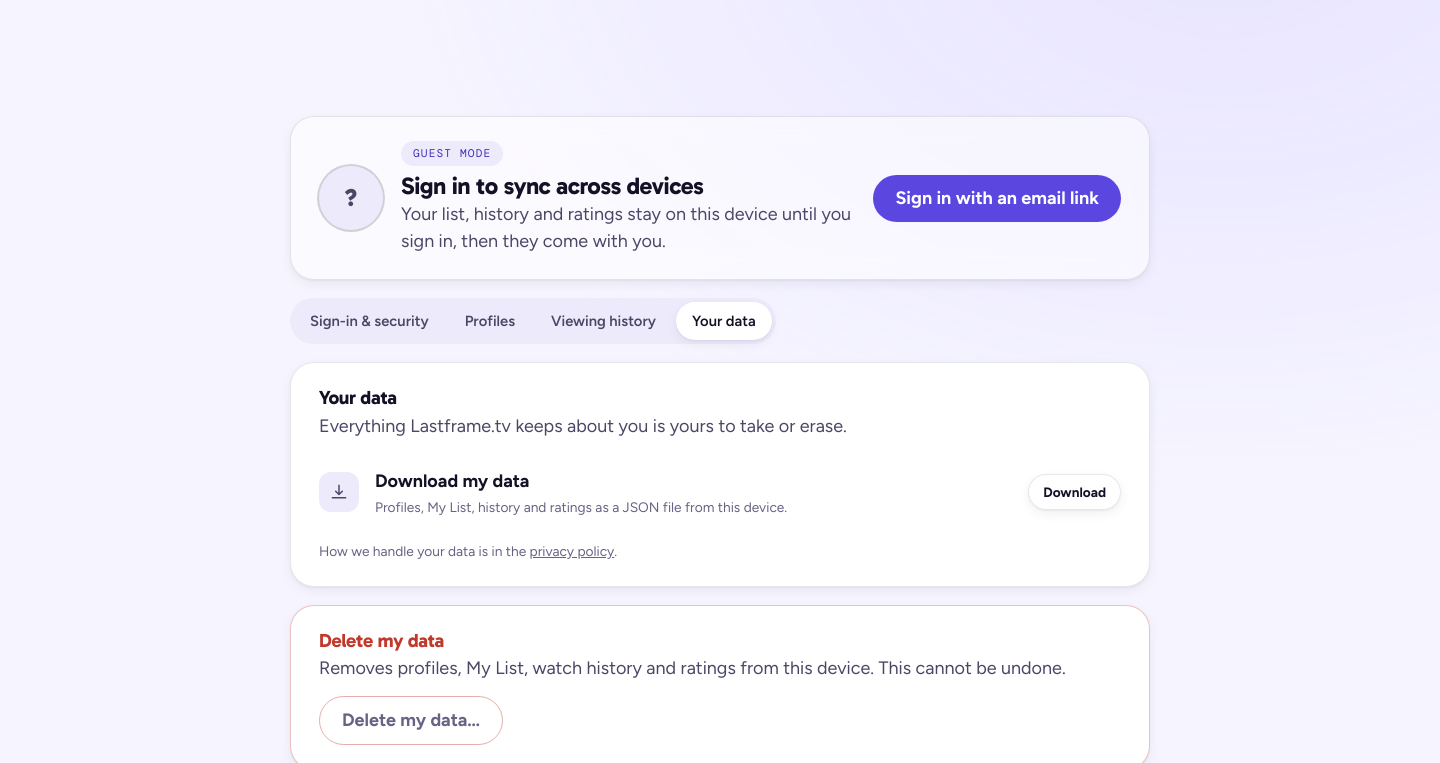
Test case: AccountPage: download my data › downloads this device’s data as a guest
What coordinates should you click on to do the following:
click the button "Download"
I would click on:
 (1075, 492)
Its box is [1028, 474, 1121, 510].
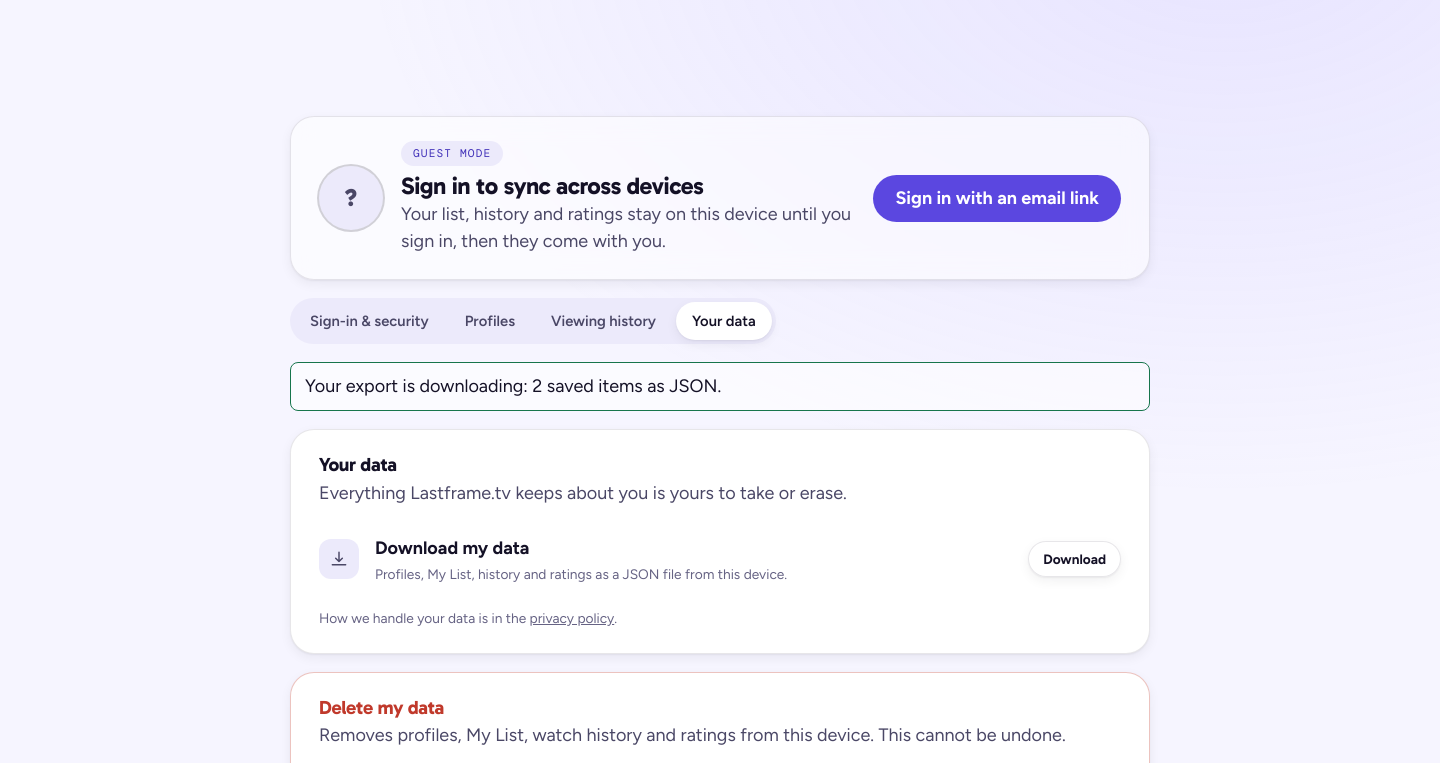
Result: the message shows "2 saved items" at [305, 376, 721, 398]
